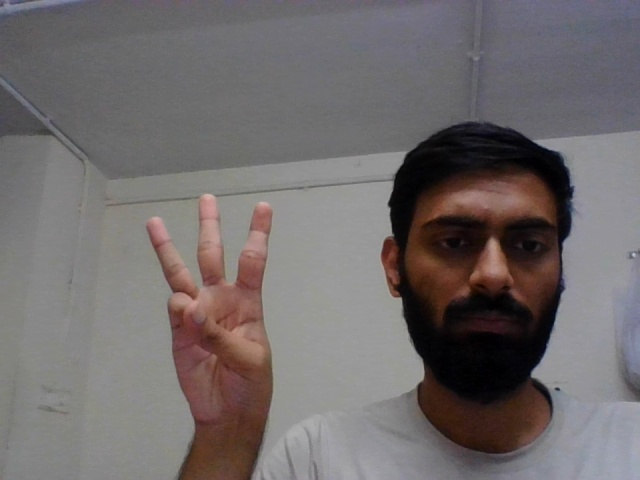W: (138, 188, 287, 446)
